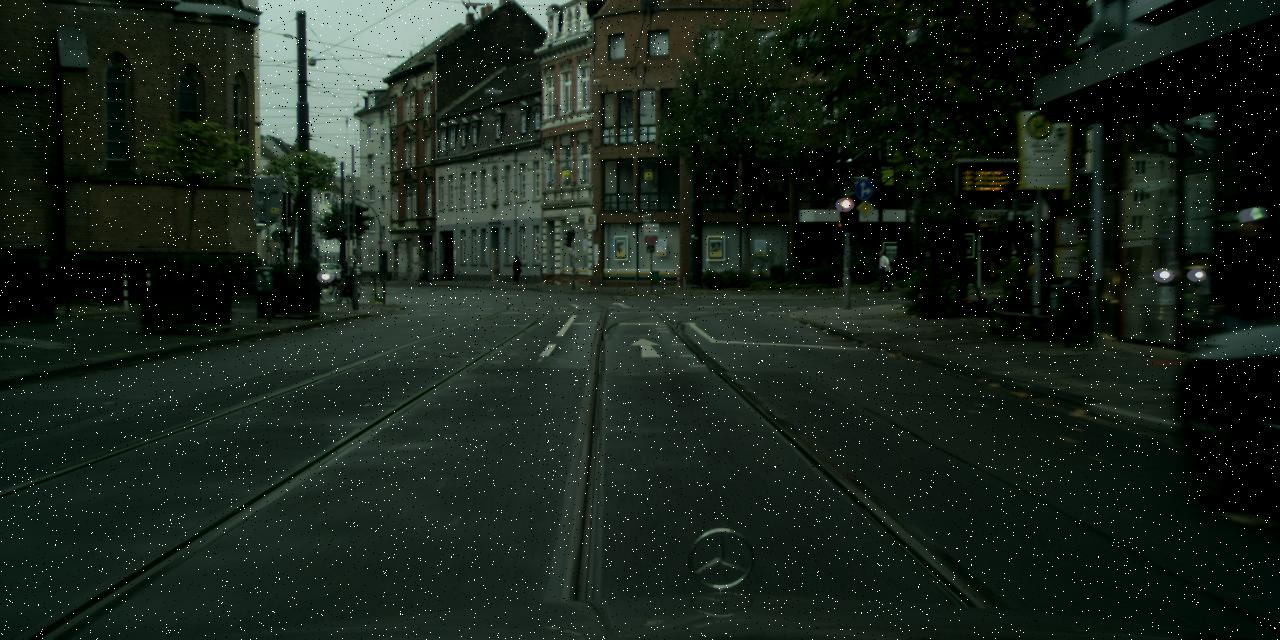ped: (1210, 205, 1278, 408), (874, 250, 890, 291), (510, 255, 521, 283)
